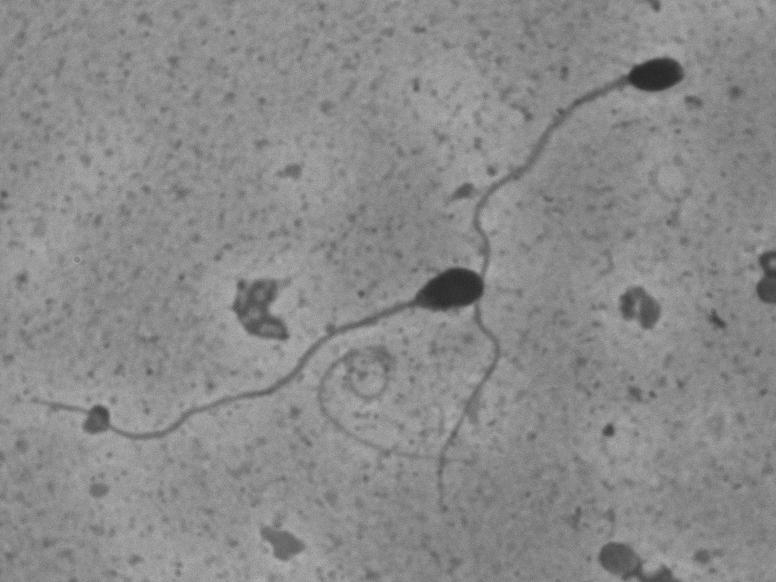Abnormal: (20, 256, 493, 458)
Normal: (418, 35, 692, 525)
